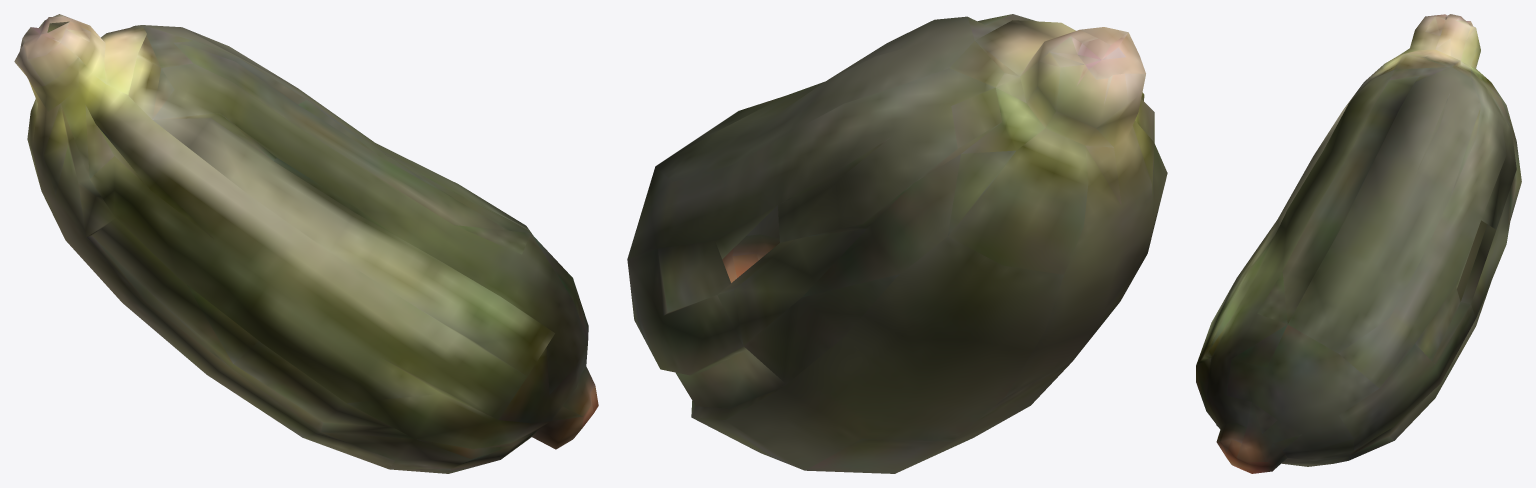
The model's file is zucchini.glb.
3 renders of one model, left to right at view 1: azimuth 30°, elevation 25°; view 2: azimuth 150°, elevation 25°; view 3: azimuth 270°, elevation 25°, orthographic. The views are drawn at different scales.
Visible parts, largest first — view 1: Zucchini; view 2: Zucchini; view 3: Zucchini.
Boxes of the visible parts, x1,y1,x2,y2 form: Zucchini: [14, 14, 598, 473]; Zucchini: [627, 14, 1167, 473]; Zucchini: [1196, 14, 1521, 473].
Size of the model in its own units: 1.74 by 1.63 by 1.43.
Materials: 1 (1 with a texture image).
